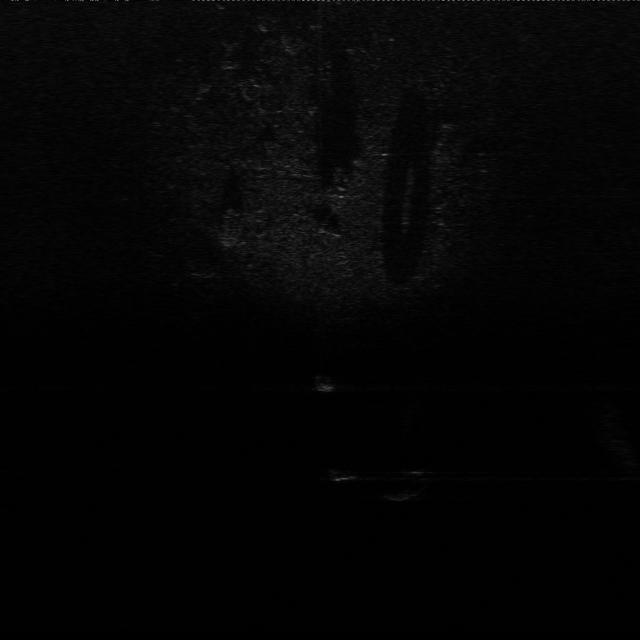cube: (327, 462, 367, 486)
square cage: (303, 370, 343, 393)
tyre: (374, 466, 440, 504)
